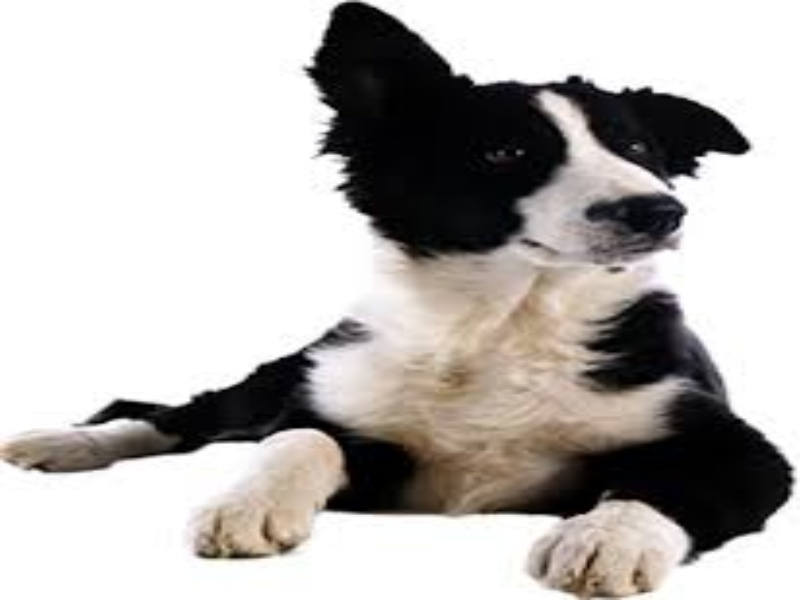dog: (17, 7, 800, 596)
